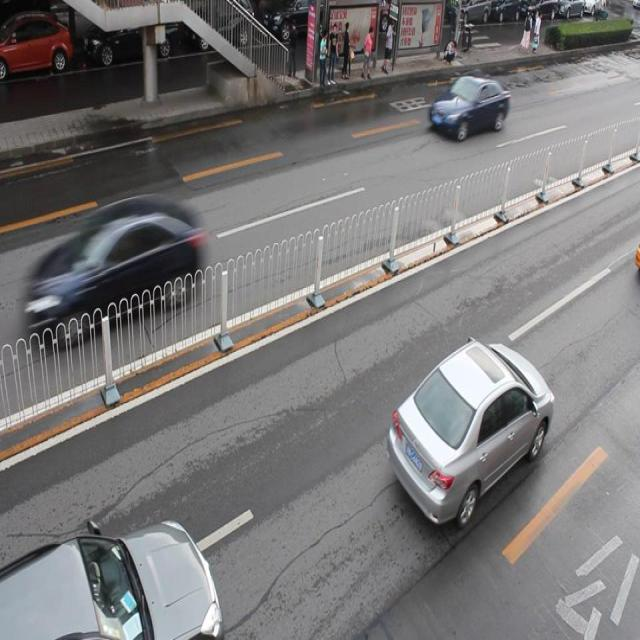car: (387, 340, 552, 523), (0, 515, 220, 640), (22, 202, 203, 342), (82, 8, 176, 69), (428, 73, 509, 140), (1, 14, 72, 81), (185, 1, 254, 49), (258, 2, 328, 48)
